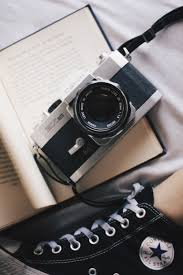camera: (36, 50, 160, 177)
